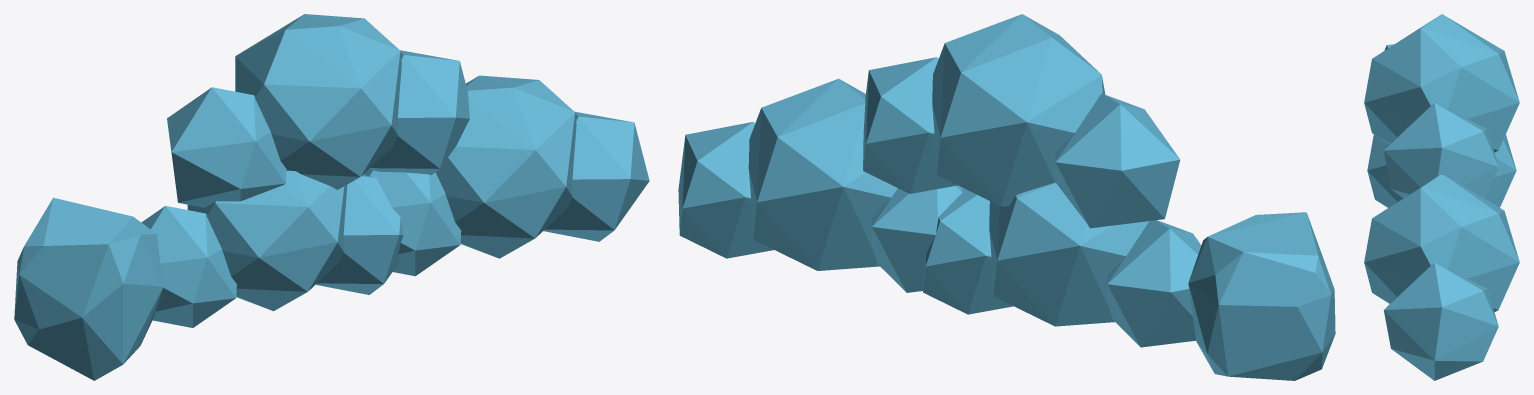
File: Cloud_v07.fbx
3 renders of one model, left to right at view 1: azimuth 30°, elevation 25°; view 2: azimuth 150°, elevation 25°; view 3: azimuth 270°, elevation 25°, orthographic. The views are drawn at different scales.
Parts seen in each view (by area): view 1: Cloud_v07; view 2: Cloud_v07; view 3: Cloud_v07.
Part boxes in pixels (left/top/right/bottom): Cloud_v07: left=14, top=14, right=649, bottom=380; Cloud_v07: left=678, top=14, right=1335, bottom=380; Cloud_v07: left=1364, top=14, right=1519, bottom=380.
Bounding box in the file's own units: 73.35 × 32.19 × 18.75.
Materials: 1 (1 with a texture image).
